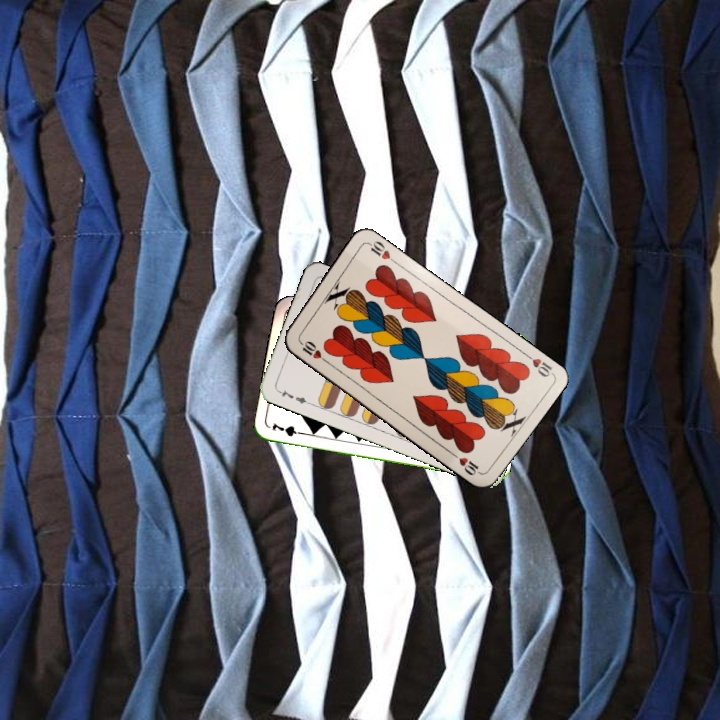E7: (273, 385, 312, 407)
G7: (268, 419, 309, 439)
H10: (519, 348, 555, 380), (295, 336, 330, 365)
